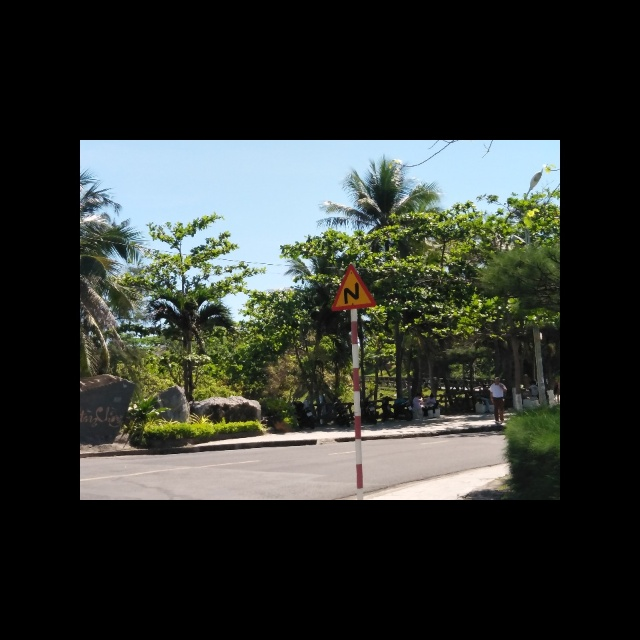Ngoặt nguy hiểm liên tiếp bên phải: (329, 266, 376, 310)
